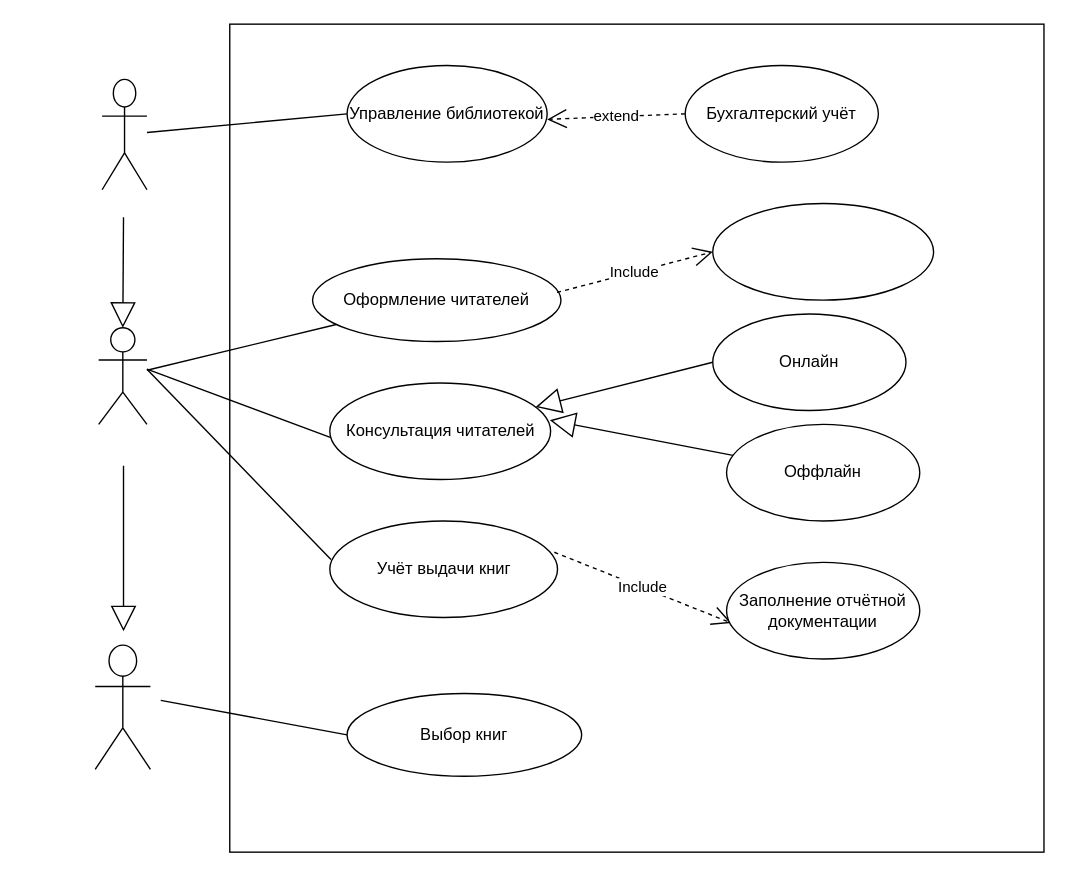
The diagram is 1068 pixels wide and 876 high, and some of its shapes have lost their labels. The shapes that lost their labels are listed below. From the top down, each one's box as (x1, y1, x2, y2) in pixels, then its label:
(101, 78, 147, 190): Заведующий библиотекой
(711, 202, 934, 300): Заводить карточки учёта выдачи книг
(97, 326, 147, 424): Библиотекарь
(94, 644, 150, 769): Читатель
